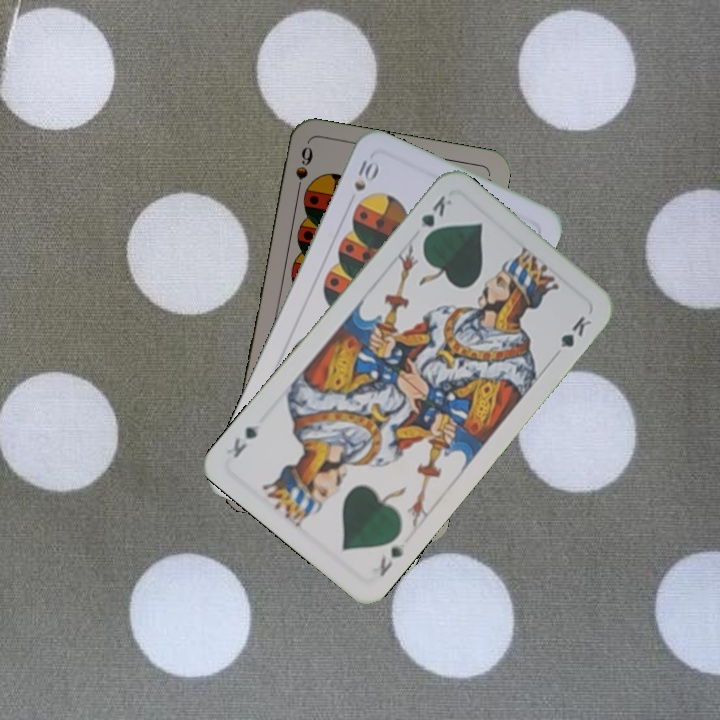GK: (416, 191, 456, 245), (375, 537, 408, 580)
S10: (350, 155, 380, 194)
S9: (291, 142, 316, 201)
